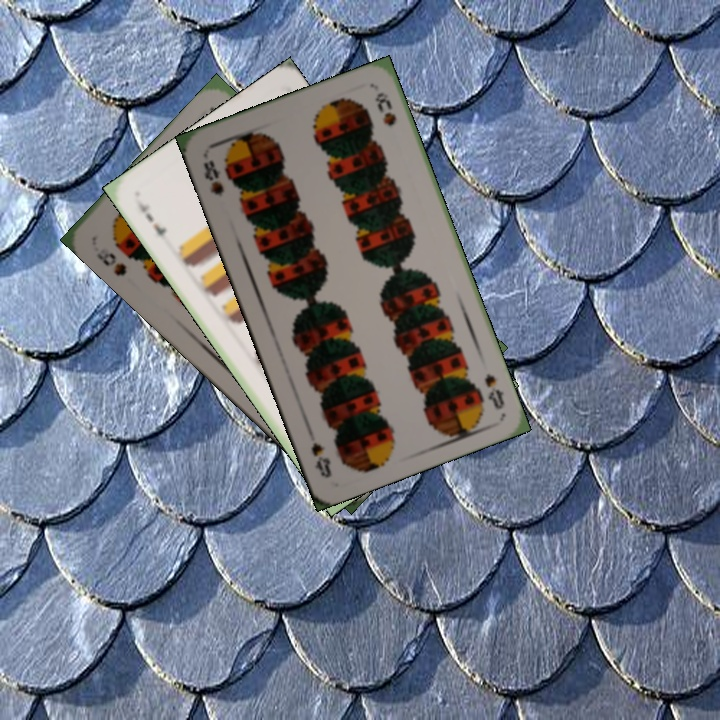E7: (133, 195, 169, 239)
S8: (92, 244, 130, 279), (199, 156, 227, 198), (480, 370, 507, 412)
